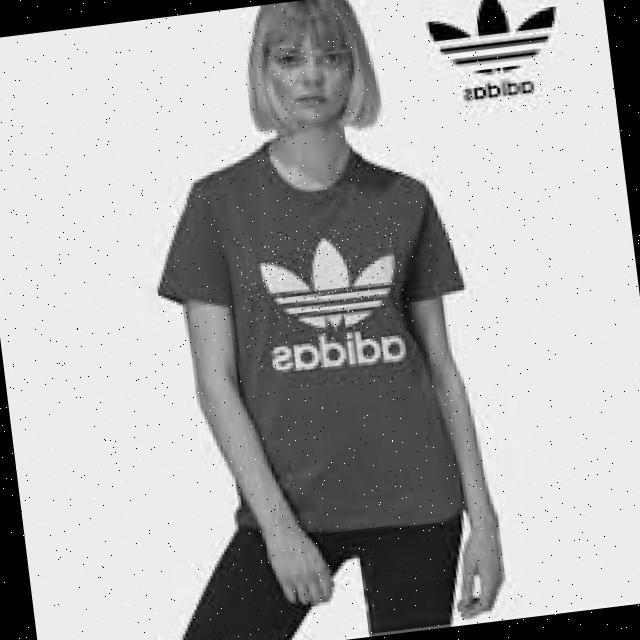Adidas: (233, 215, 414, 349), (412, 0, 571, 85)
